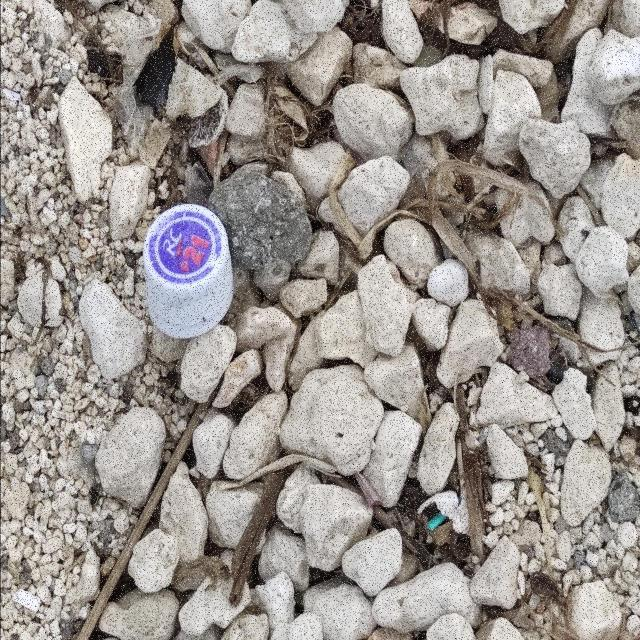plastic_waste: (144, 205, 234, 342)
